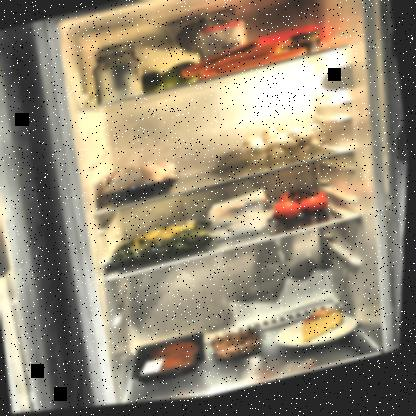apple: (132, 58, 205, 100)
beef: (130, 333, 214, 390)
carrot: (177, 32, 310, 91)
cheese: (300, 308, 351, 350)
chicken: (92, 155, 187, 212)
corn: (286, 34, 324, 64)
mushrooms: (238, 119, 329, 176)
shrimp: (211, 330, 268, 366)
spinach: (102, 215, 221, 277)
tomato: (268, 184, 335, 231)
